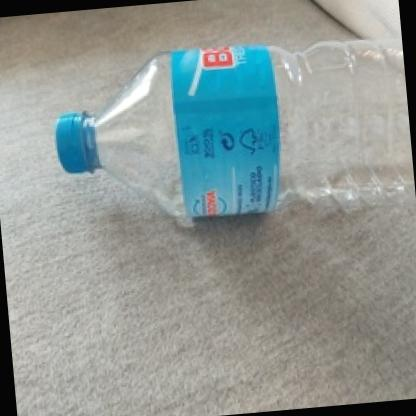plastic_bottles: (41, 27, 416, 239)
